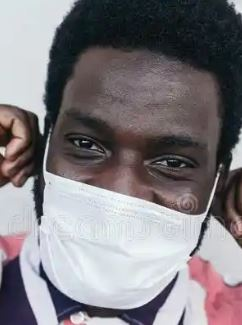with_facemask: (41, 166, 191, 308)
